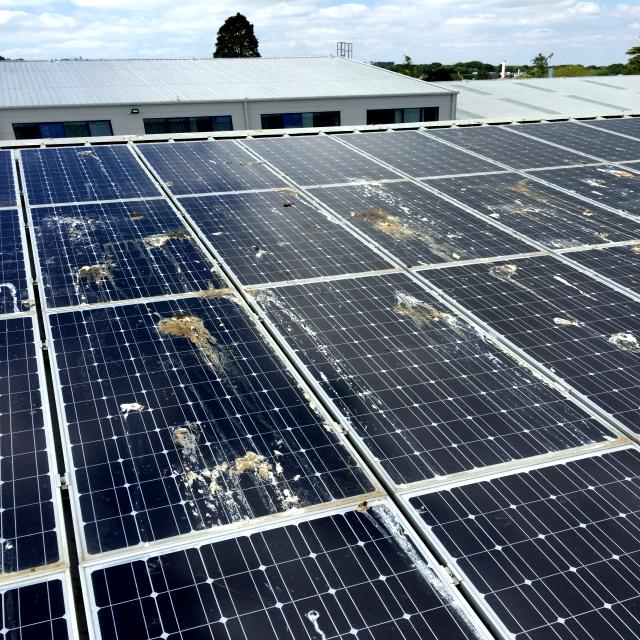bird: (162, 436, 332, 524), (358, 178, 482, 272), (34, 202, 118, 306), (146, 304, 242, 386), (375, 274, 476, 350), (546, 307, 640, 378), (500, 162, 618, 216), (138, 218, 196, 293), (110, 400, 166, 420)
